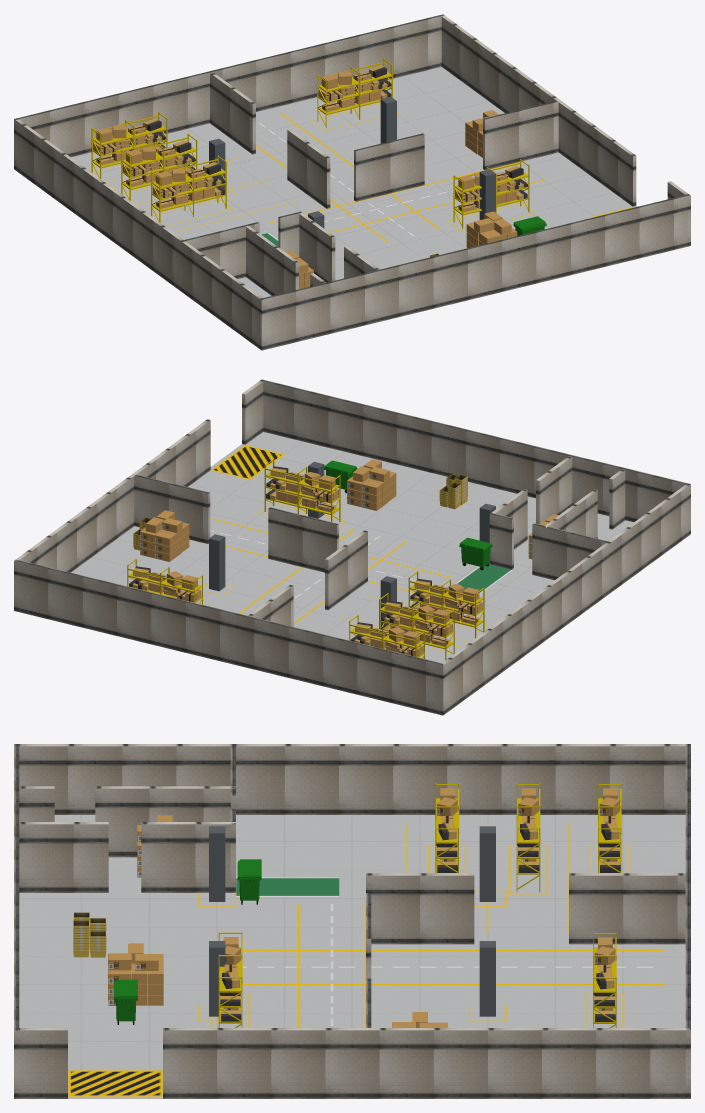
File: factory.dae
The picture shows the model from 3 angles, top to bottom: view 1: azimuth 30°, elevation 25°; view 2: azimuth 150°, elevation 25°; view 3: azimuth 270°, elevation 25°; orthographic projection. The views are drawn at different scales.
Visible parts, largest first — view 1: Factory; view 2: Factory; view 3: Factory.
Part boxes in pixels (box(x1,y1,x2,y2)): Factory: box(14, 14, 690, 350); Factory: box(14, 379, 690, 715); Factory: box(14, 744, 690, 1098).
Size of the model in its own units: 25 by 25 by 2.8.
31 materials, 8 textured.
